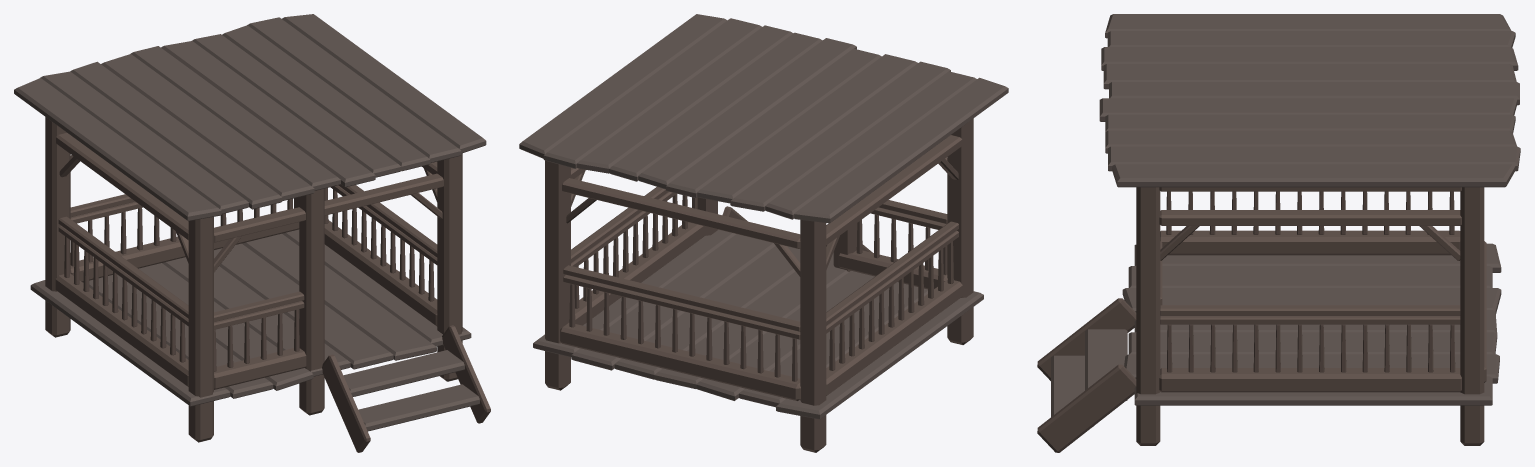
The model's file is farmstractures_02.glb.
3 renders of one model, left to right at view 1: azimuth 30°, elevation 25°; view 2: azimuth 150°, elevation 25°; view 3: azimuth 270°, elevation 25°, orthographic. The views are drawn at different scales.
Visible parts, largest first — view 1: farmstractures_02; view 2: farmstractures_02; view 3: farmstractures_02.
Part boxes in pixels (x1=…): farmstractures_02: x1=14, y1=14, x2=490, y2=452; farmstractures_02: x1=519, y1=14, x2=1008, y2=452; farmstractures_02: x1=1037, y1=14, x2=1520, y2=452.
Size of the model in its own units: 3.58 by 2.91 by 4.38.
Materials: 1 (1 with a texture image).
